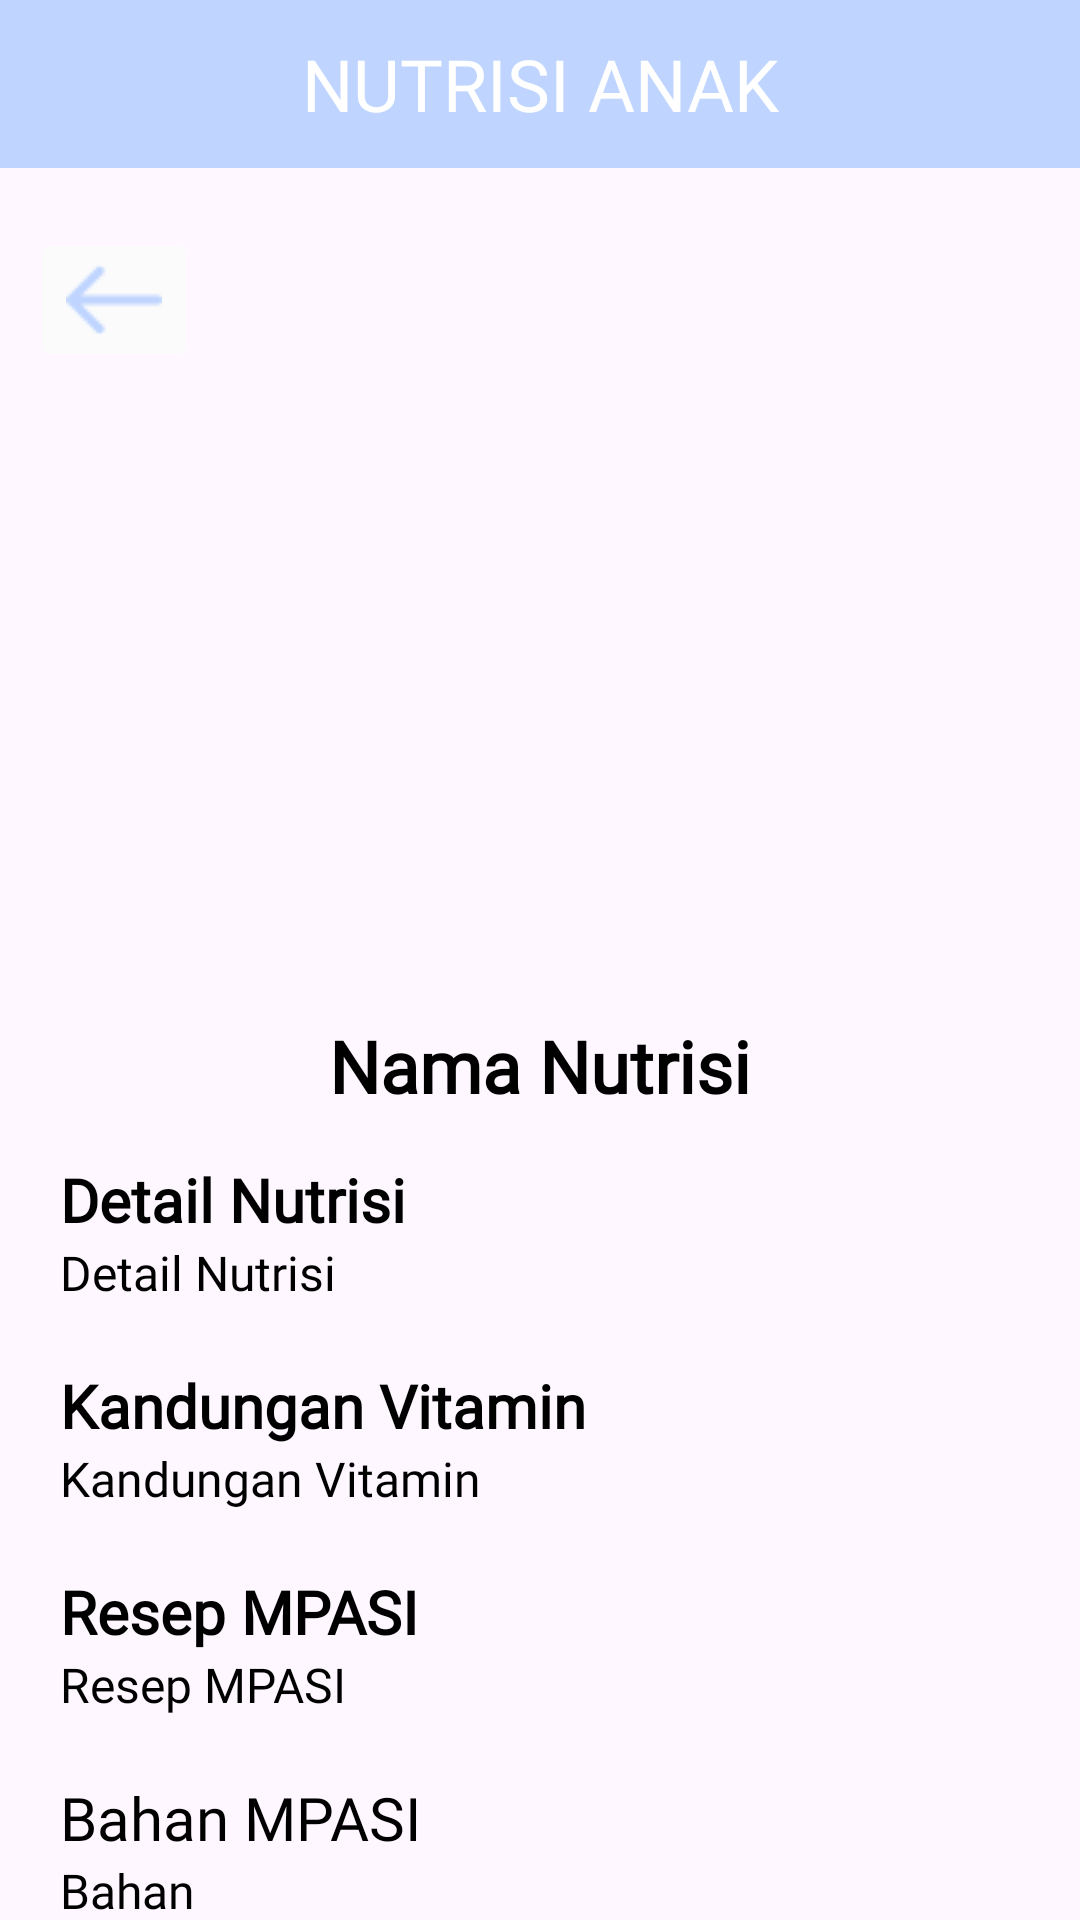

Locate icon controls on the screen. Image size 1080w x 1920h, boxes as (x1, y1, x2, y2).
Back: (66, 266, 162, 334)
